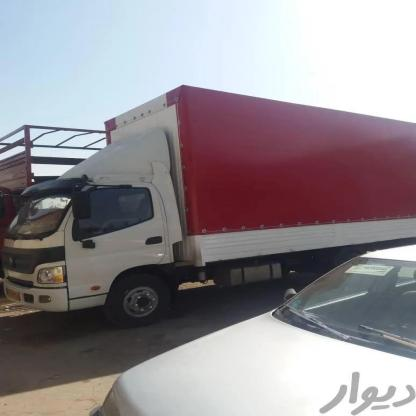Car: (109, 222, 416, 416)
Truck: (0, 79, 416, 306)
